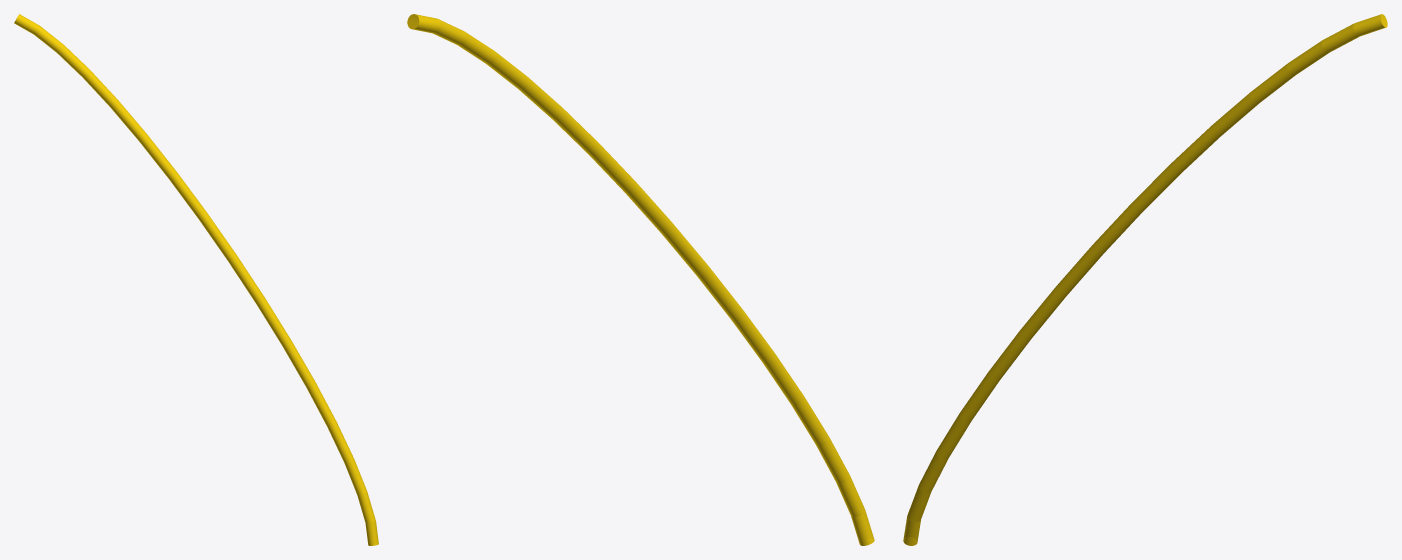
The model's file is Event_421364160_track_74.fbx.
3 views of the same model, side by side, from view 1: azimuth 90°, elevation 25°; view 2: azimuth 150°, elevation 25°; view 3: azimuth 270°, elevation 25° (orthographic). The views are drawn at different scales.
Visible parts, largest first — view 1: Model; view 2: Model; view 3: Model.
Part boxes in pixels (left/top/right/bottom): Model: left=14, top=14, right=378, bottom=545; Model: left=407, top=14, right=874, bottom=545; Model: left=903, top=14, right=1387, bottom=545.
Size of the model in its own units: 0.6258 by 1.9 by 1.35.
